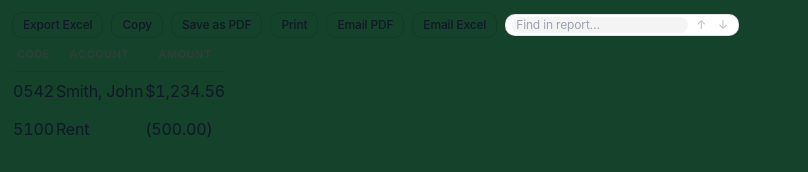
it: Excel-style report search › reports when no table cell matches
Type "not-in-this-report" into the search field labelled "Find in report…".
click(600, 25); type("not-in-this-report")  # box [512,17,688,33]
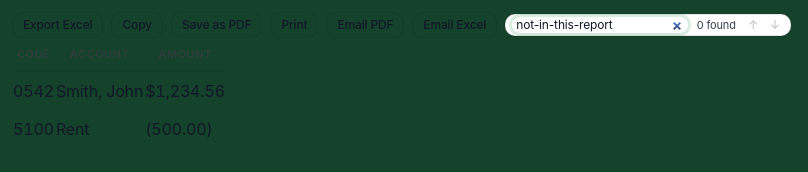
Now the text "0 found" is shown, box [697,18,736,32]
